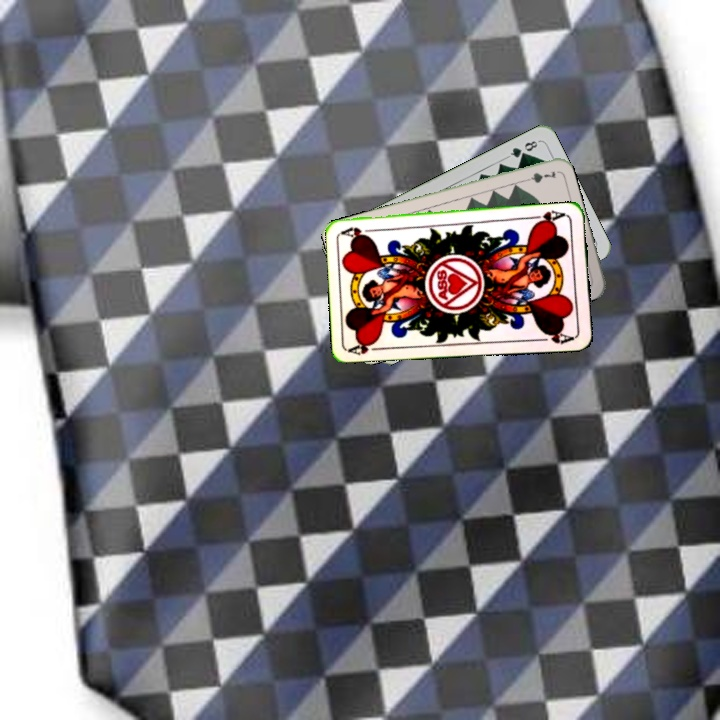G7: (518, 167, 559, 186)
G8: (504, 136, 542, 160)
HA: (528, 206, 569, 227), (347, 337, 387, 358)
